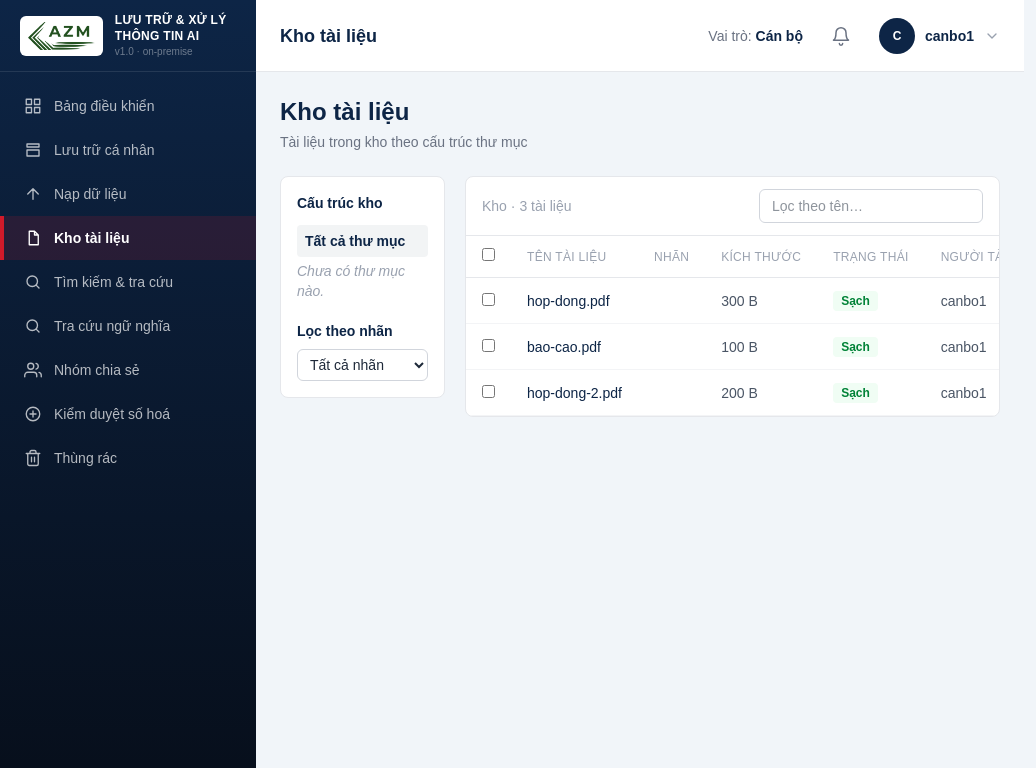
DocumentsPage › filters by name, sorts by size and selects all visible rows
Expected: the link "bao-cao.pdf" is shown, [527,338,601,354]
Step 1. Type "hop" into the search field named "Lọc theo tên tài liệu" → (871, 206), box [759,189,983,223]
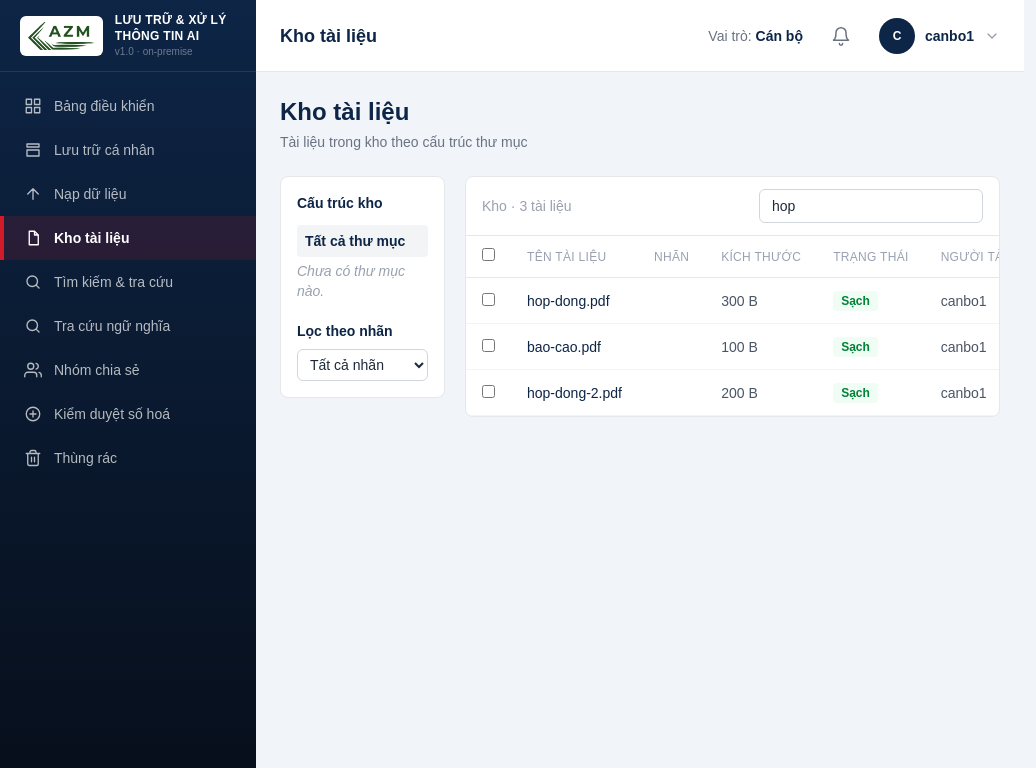
Step 2. Click the button "Kích thước" → (761, 256), box [721,248,801,264]
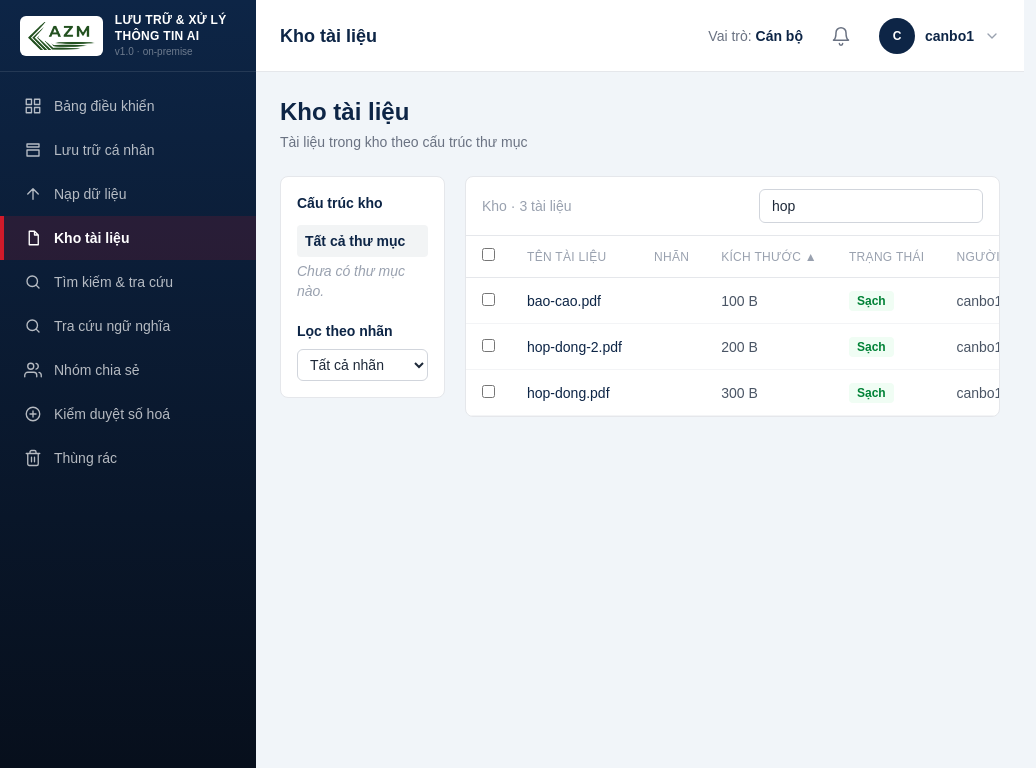
Step 3. Click the checkbox named "Chọn tất cả tài liệu đang hiển thị" → (488, 254), box [482,248,495,261]
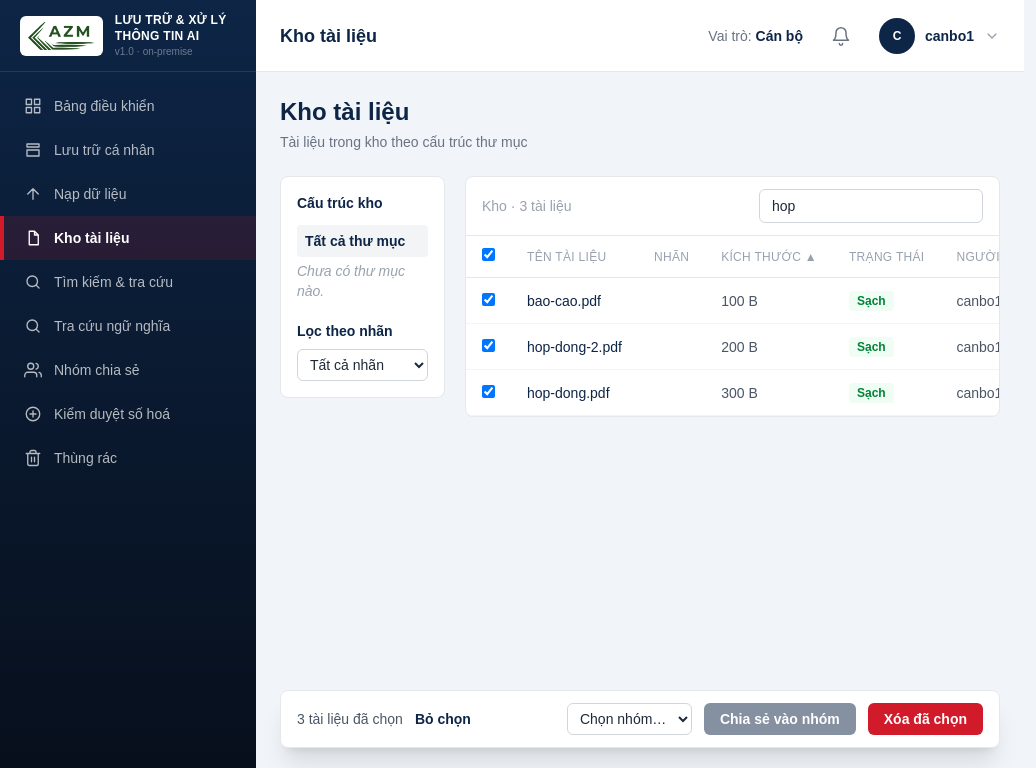
Expected: the text "3 tài liệu đã chọn" is shown, [297,709,471,729]
